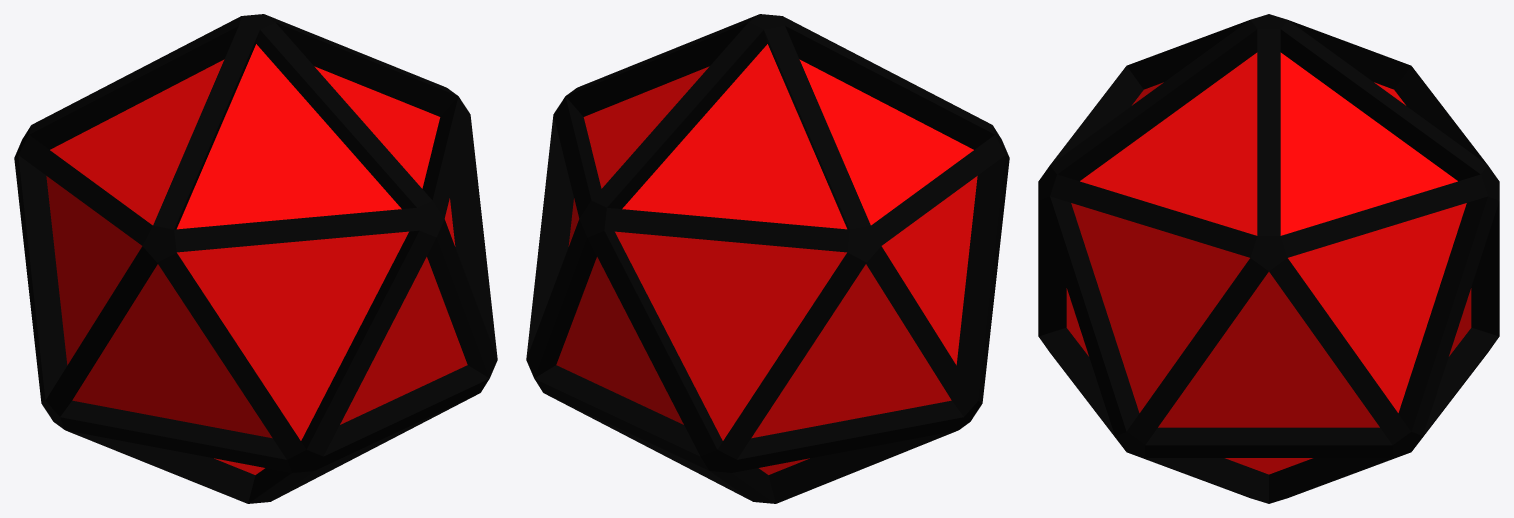
Rendered from thing2.fbx.
3 renders of one model, left to right at view 1: azimuth 30°, elevation 25°; view 2: azimuth 150°, elevation 25°; view 3: azimuth 270°, elevation 25°, orthographic.
Visible parts, largest first — view 1: Icosphere; view 2: Icosphere; view 3: Icosphere.
Boxes of the visible parts, box(x1,y1,x2,y2) form: Icosphere: box(14, 14, 497, 503); Icosphere: box(526, 14, 1009, 503); Icosphere: box(1038, 14, 1499, 503).
Bounding box in the file's own units: 0.9263 × 0.9982 × 0.881.
